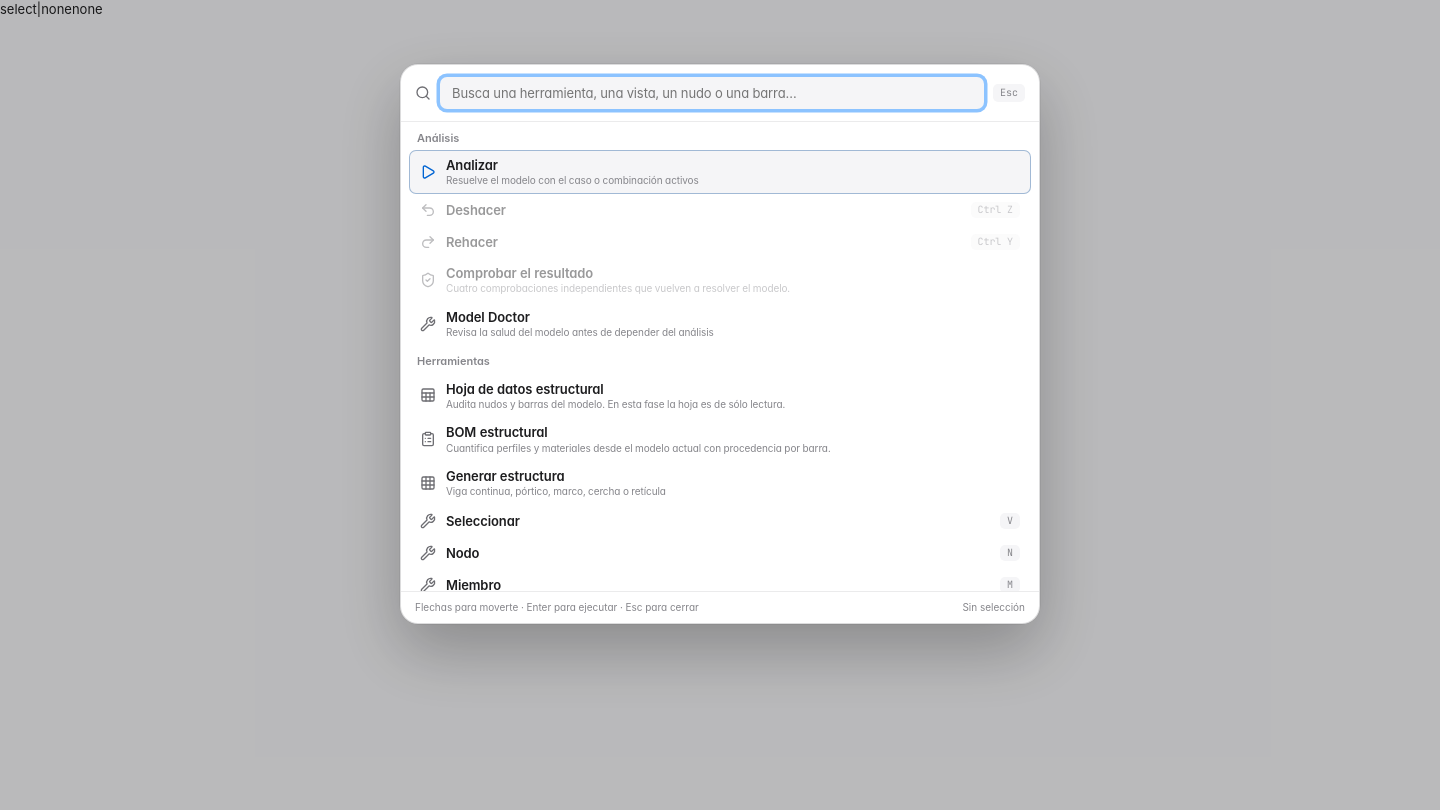
Scenario: CommandPalette › reports when nothing matches instead of showing an empty list
This screenshot has width=1440, height=810.
Type "zzzzzz" into the dropdown at {"x": 712, "y": 93}, box [440,77,984,109]
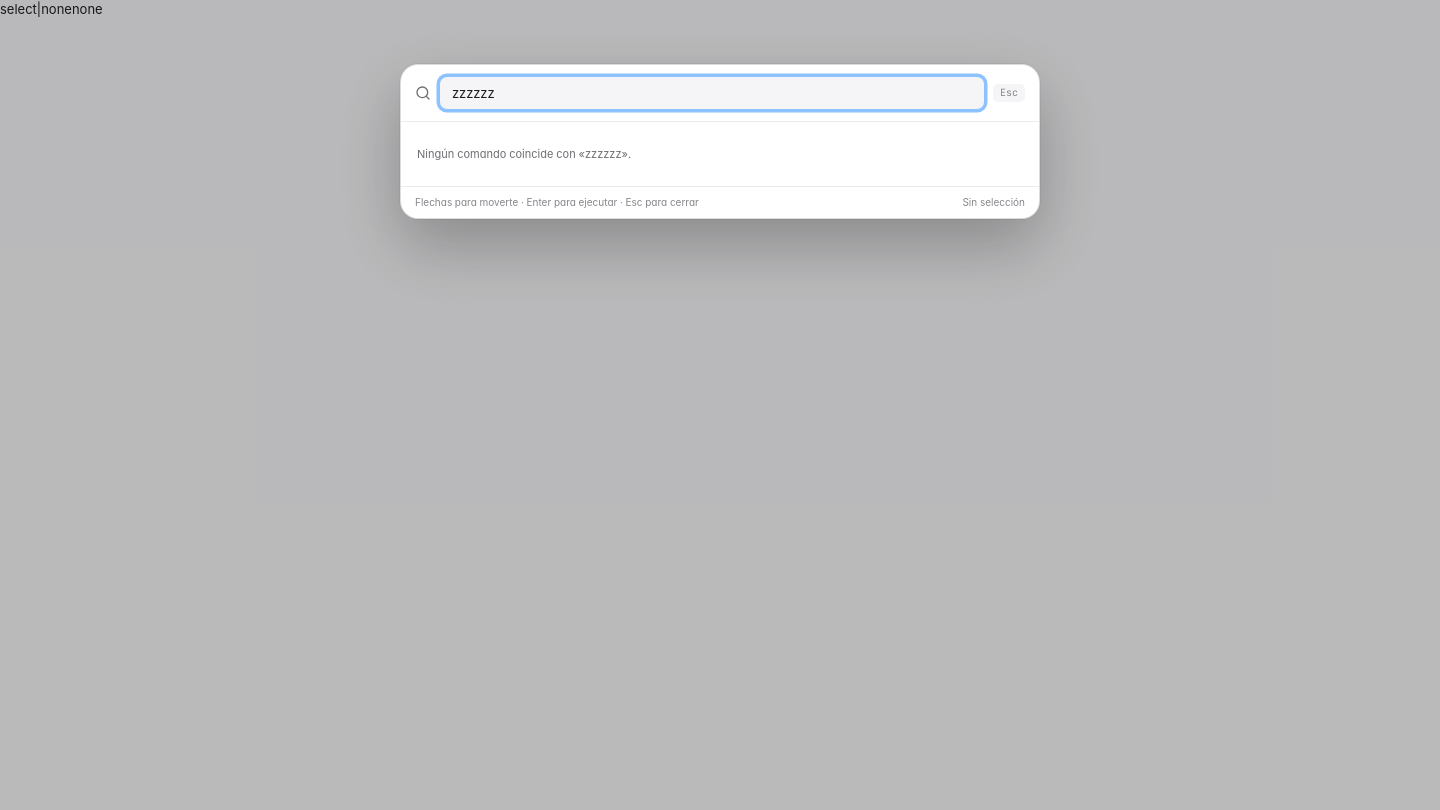
Now the text "Ningún comando coincide con «zzzzzz»." is shown, box [417,147,631,161]
